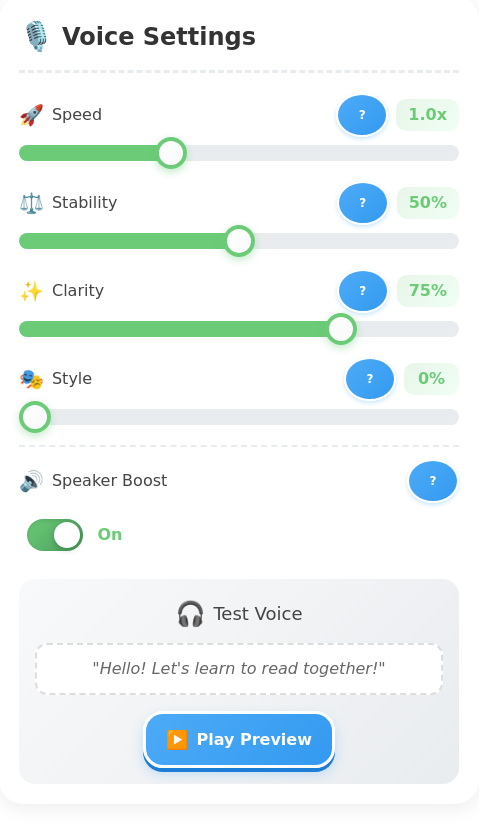
Test: VoiceParameterSliders › speaker boost toggle › toggles speaker boost off when clicked
The width and height of the screenshot is (479, 826).
Click the button with id "toggle-speaker-boost": (55, 535) [19,511,459,559]
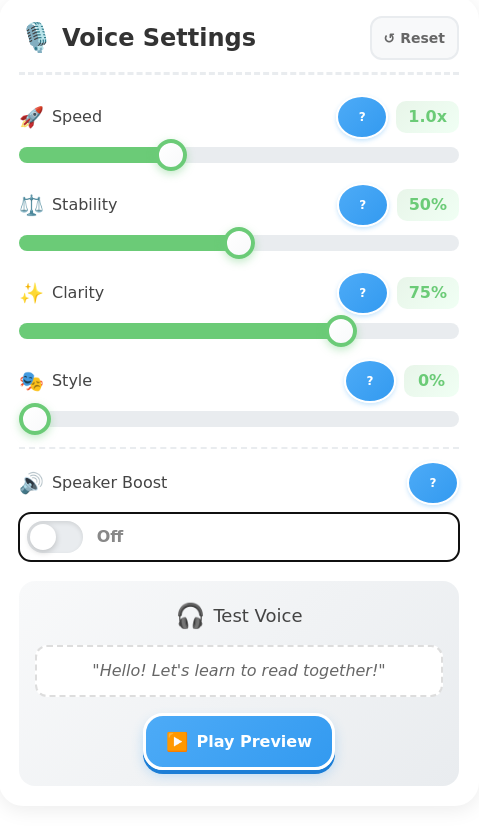
Check: the text "Off" is shown, box [95,525,125,549]
